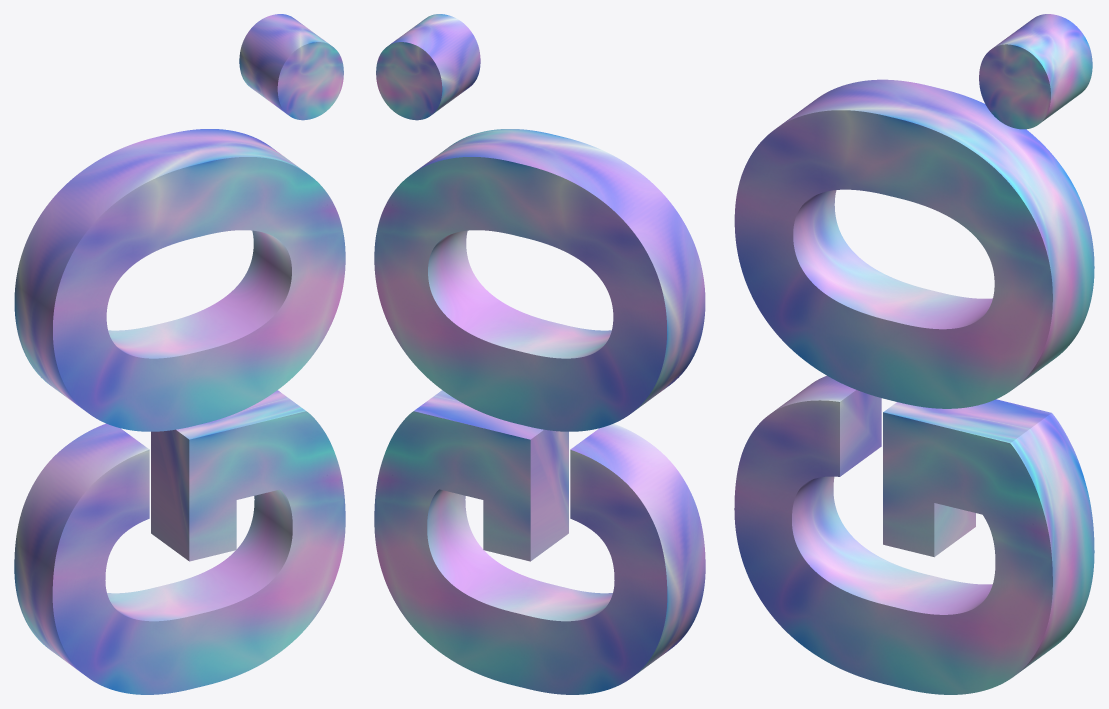
File: GoV2.glb
3 views of the same model, side by side, from view 1: azimuth 30°, elevation 25°; view 2: azimuth 150°, elevation 25°; view 3: azimuth 330°, elevation 25° (orthographic). The views are drawn at different scales.
Visible parts, largest first — view 1: Text; view 2: Text; view 3: Text.
Part boxes in pixels (x1=…): Text: x1=14, y1=14, x2=345, y2=694; Text: x1=374, y1=14, x2=705, y2=694; Text: x1=734, y1=14, x2=1094, y2=694.
Size of the model in its own units: 1.43 by 2.88 by 0.3243.
1 material, 1 textured.
